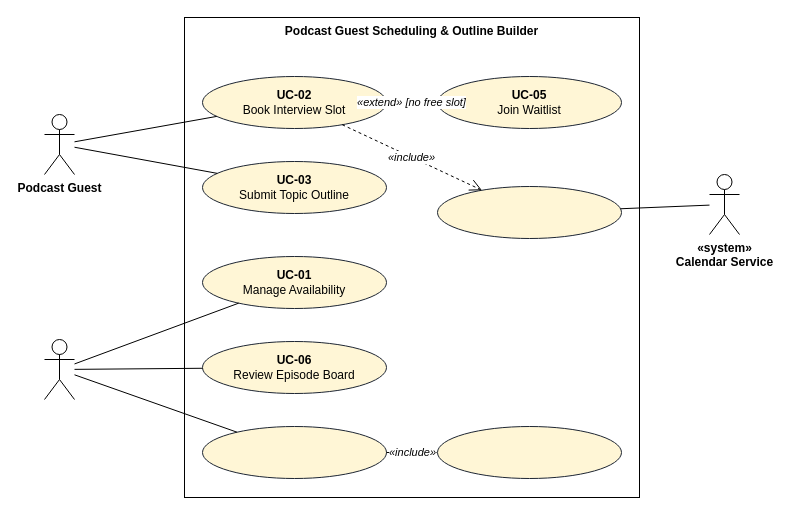
This 790x515 diagram has some shape labels left out. Here are the shapes that lost their labels. From the top down, the centre of each, then its label:
At pixel 529 212: "UC-04 Send Calendar Invite".
At pixel 59 369: "Show Host".
At pixel 294 452: "UC-07 Generate Run-of-Show PDF".
At pixel 529 452: "UC-08 Compute Segment Timestamps".
